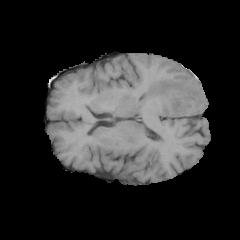glioma: (143, 77, 187, 114)
